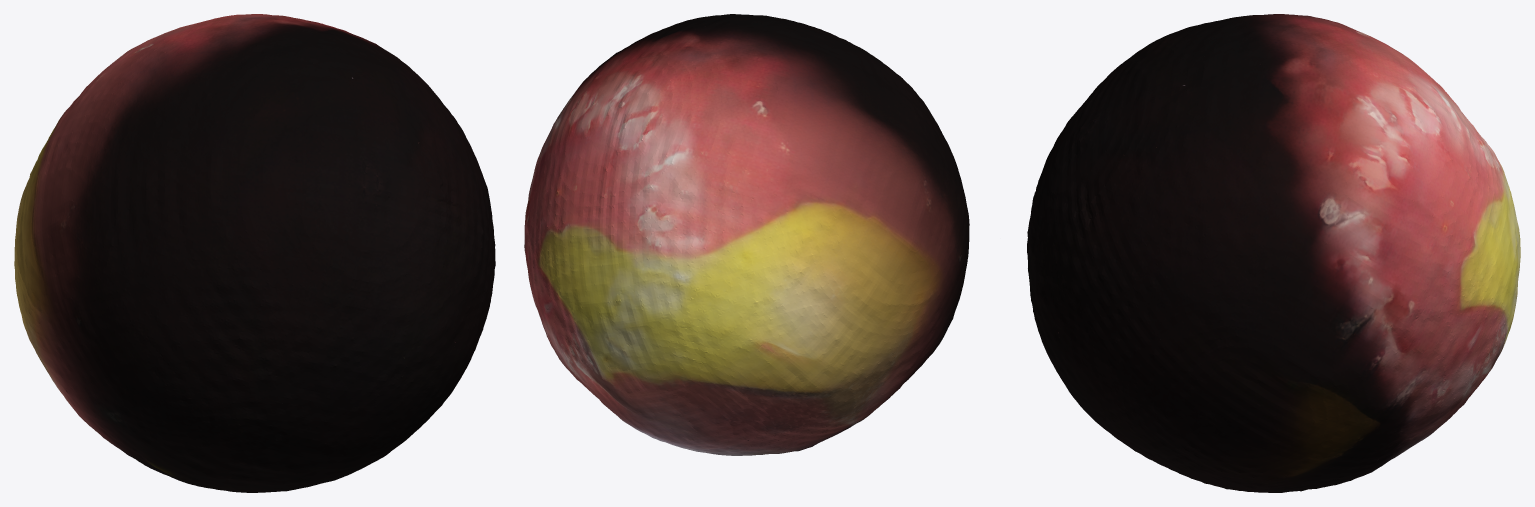
The model's file is instantmesh_recon.glb.
3 views of the same model, side by side, from view 1: azimuth 30°, elevation 25°; view 2: azimuth 150°, elevation 25°; view 3: azimuth 270°, elevation 25° (orthographic). The views are drawn at different scales.
Parts seen in each view (by area): view 1: world; view 2: world; view 3: world.
Boxes of the visible parts, x1=… form: world: x1=14, y1=14, x2=495, y2=492; world: x1=524, y1=14, x2=969, y2=455; world: x1=1027, y1=14, x2=1520, y2=492.
Size of the model in its own units: 0.0314 by 0.0323 by 0.0339.
Materials: 1 (1 with a texture image).
